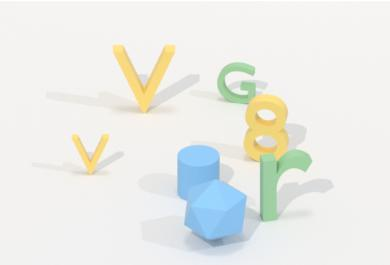0-KhoiTru: (173, 140, 224, 206)
0-TronCanh: (179, 179, 251, 245)
8: (241, 89, 293, 164)
G: (215, 58, 261, 107)
V: (109, 40, 179, 120), (68, 129, 116, 180)
r: (257, 147, 315, 225)
